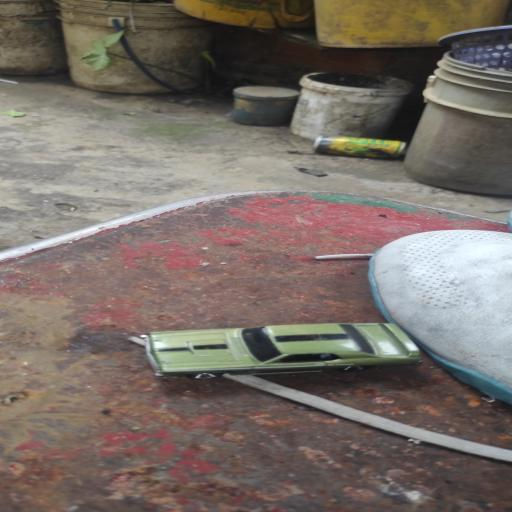Carrito: (142, 323, 420, 379)
